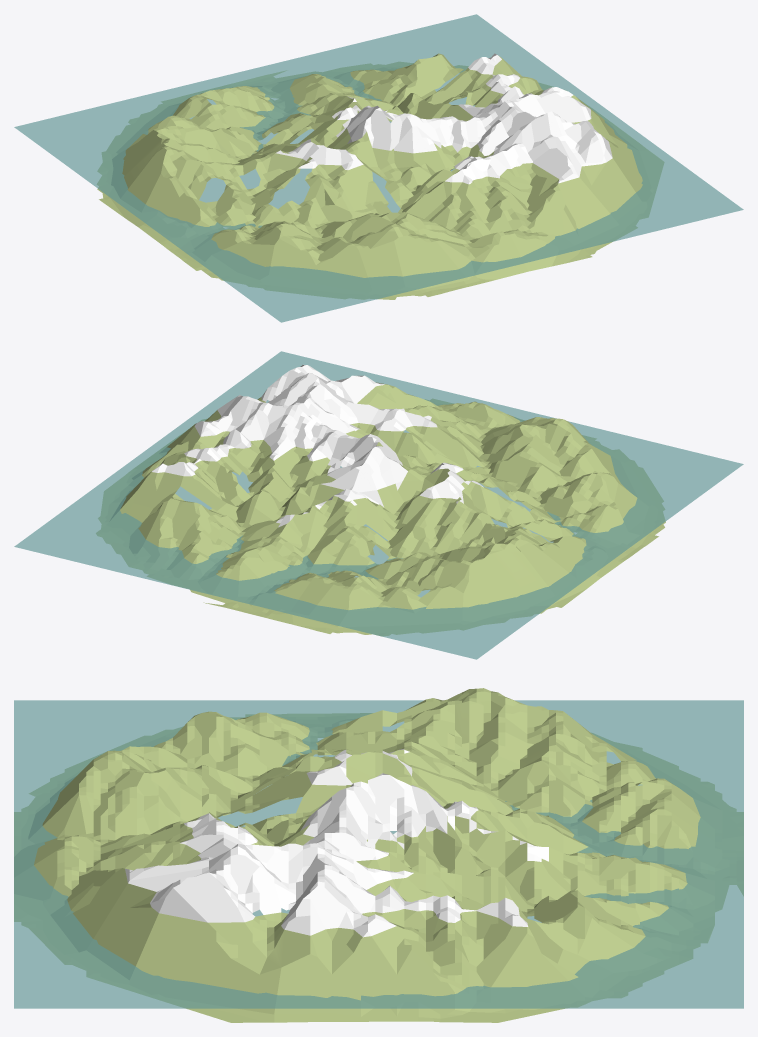
The model's file is project.gltf.
3 views of the same model, one above another, from view 1: azimuth 30°, elevation 25°; view 2: azimuth 150°, elevation 25°; view 3: azimuth 270°, elevation 25° (orthographic). The views are drawn at different scales.
Visible parts, largest first — view 1: node_mountain_10944, node_water_11062; view 2: node_mountain_10944, node_water_11062; view 3: node_mountain_10944, node_water_11062.
Boxes of the visible parts, box(x1,y1,x2,y2) form: node_mountain_10944: box(97, 53, 664, 299); node_water_11062: box(14, 14, 743, 322); node_mountain_10944: box(96, 364, 665, 636); node_water_11062: box(14, 351, 743, 659); node_mountain_10944: box(14, 688, 743, 1022); node_water_11062: box(14, 700, 743, 1008).
Size of the model in its own units: 2250 by 352 by 2250.
